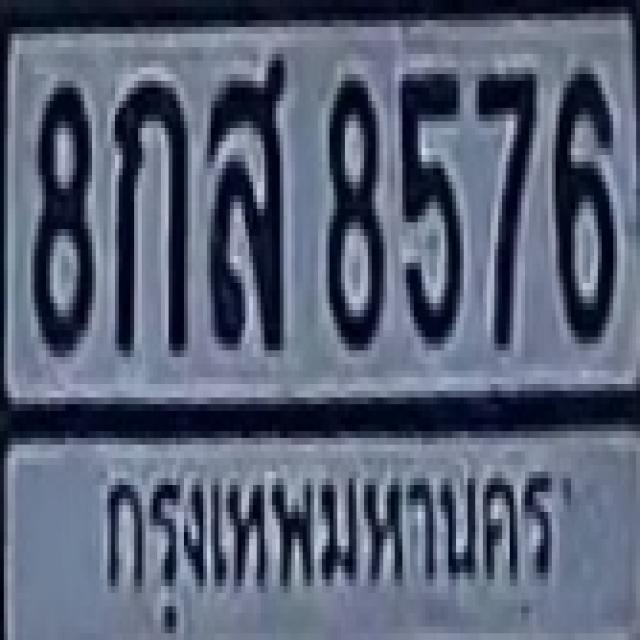5: (398, 67, 460, 337)
6: (552, 61, 613, 337)
7: (475, 64, 533, 340)
8: (31, 77, 88, 347), (326, 68, 379, 344)
A01: (111, 74, 184, 350)
A40: (205, 54, 282, 343)
BKK: (87, 446, 563, 628)
